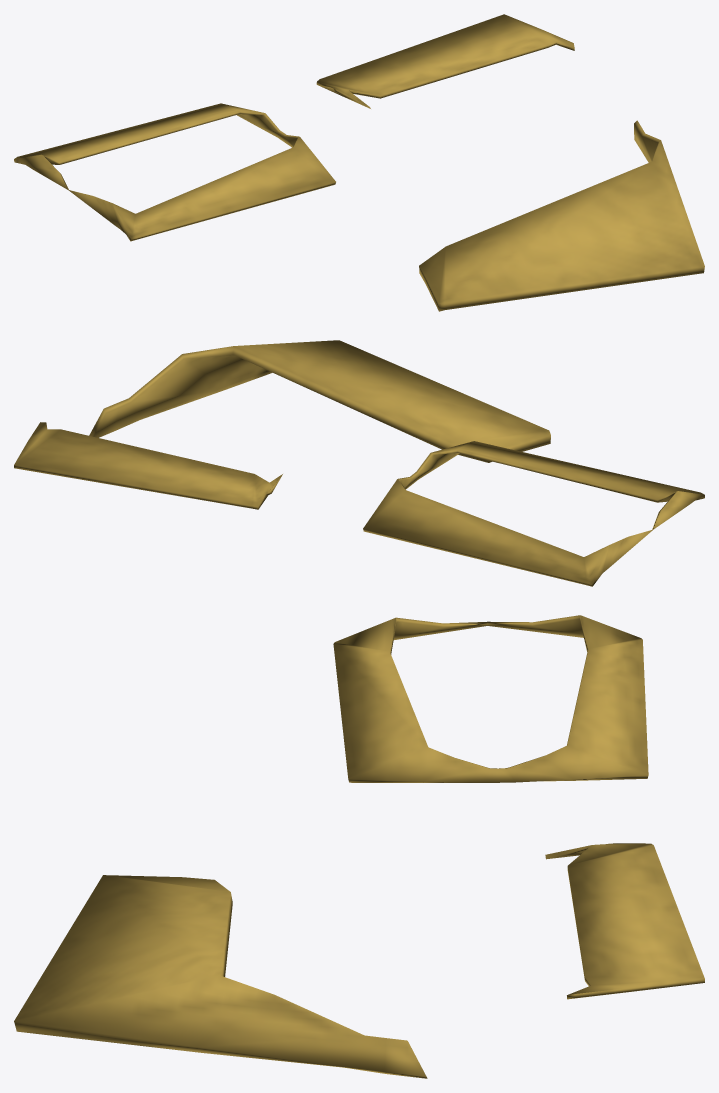
Rendered from TentScraps_Yellow.obj.
3 views of the same model, one above another, from view 1: azimuth 30°, elevation 25°; view 2: azimuth 150°, elevation 25°; view 3: azimuth 270°, elevation 25° (orthographic). The views are drawn at different scales.
Parts seen in each view (by area): view 1: TentScraps.001_Material, TentScraps.002_Material, TentScraps_Material; view 2: TentScraps.001_Material, TentScraps.002_Material, TentScraps_Material; view 3: TentScraps.001_Material, TentScraps.002_Material, TentScraps_Material.
Boxes of the visible parts, left/top/right/bottom form: TentScraps.001_Material: left=419, top=120, right=704, bottom=311; TentScraps.002_Material: left=14, top=103, right=335, bottom=241; TentScraps_Material: left=316, top=14, right=574, bottom=108; TentScraps.001_Material: left=89, top=340, right=550, bottom=462; TentScraps.002_Material: left=363, top=441, right=704, bottom=586; TentScraps_Material: left=14, top=422, right=282, bottom=509; TentScraps.001_Material: left=14, top=875, right=427, bottom=1078; TentScraps.002_Material: left=333, top=615, right=648, bottom=782; TentScraps_Material: left=545, top=843, right=704, bottom=999.
Bounding box in the file's own units: 5.78 × 0.8765 × 4.6.
